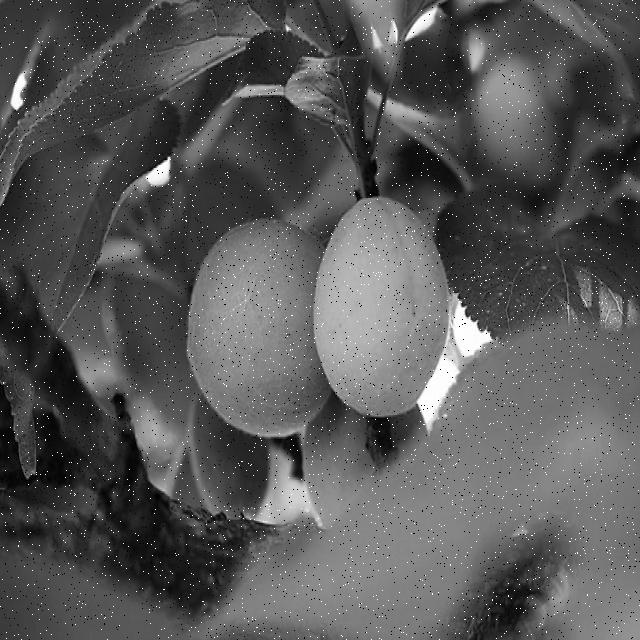kayisi: (206, 226, 324, 404), (350, 209, 442, 363), (309, 416, 406, 509)
yaprak: (450, 183, 640, 359), (22, 144, 132, 300), (54, 54, 249, 92), (298, 60, 389, 138)
